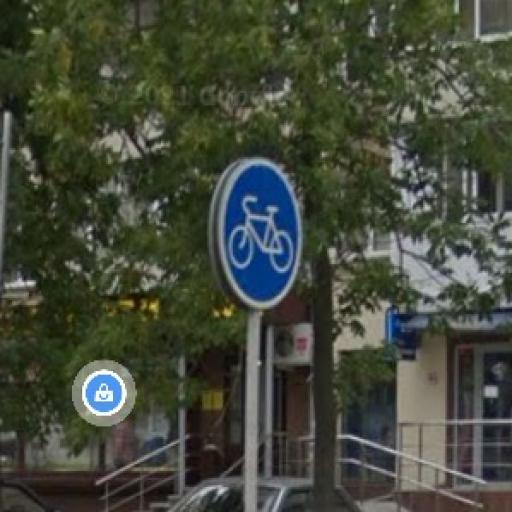traffic_sign: (215, 158, 304, 311)
